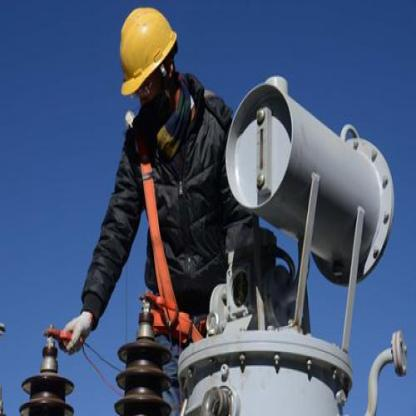helmet: (112, 1, 186, 124)
